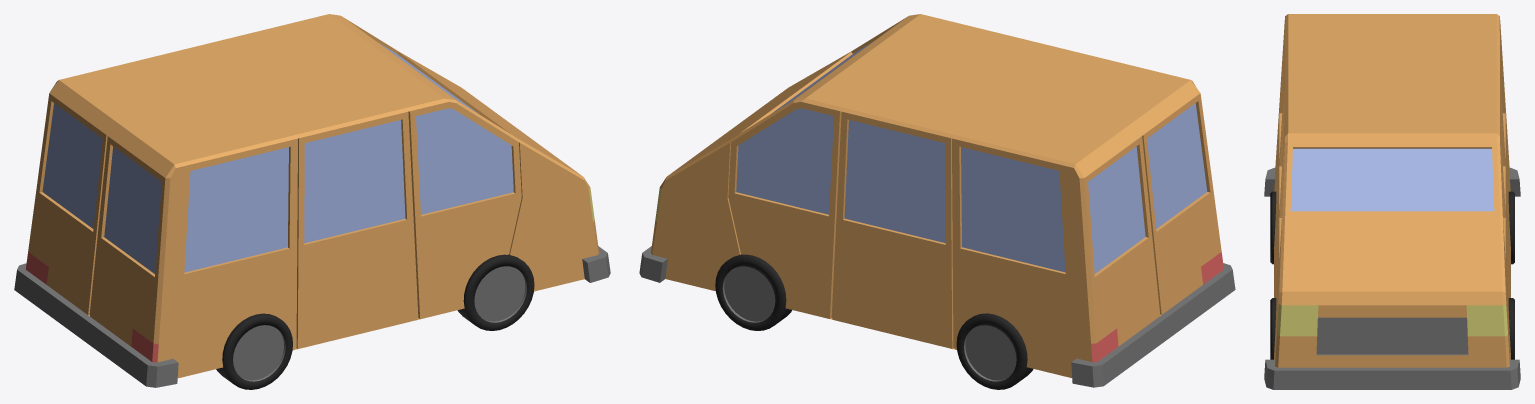
File: mashinka2.fbx
The picture shows the model from 3 angles, left to right: view 1: azimuth 30°, elevation 25°; view 2: azimuth 150°, elevation 25°; view 3: azimuth 270°, elevation 25°; orthographic projection. The views are drawn at different scales.
Visible parts, largest first — view 1: Cube, Cylinder.002, Cylinder.003; view 2: Cube, Cylinder, Cylinder.001; view 3: Cube, Cylinder.003, Cylinder.001, Cylinder, Cylinder.002.
Part boxes in pixels (box(x1,y1,x2,y2)): Cube: box(14, 14, 610, 387); Cylinder.002: box(457, 254, 534, 330); Cylinder.003: box(216, 313, 292, 389); Cube: box(639, 14, 1235, 387); Cylinder: box(715, 254, 792, 330); Cylinder.001: box(956, 313, 1033, 389); Cube: box(1264, 14, 1520, 389); Cylinder.003: box(1270, 191, 1276, 264); Cylinder.001: box(1508, 191, 1514, 264); Cylinder: box(1508, 298, 1514, 359); Cylinder.002: box(1270, 298, 1276, 359).
Bounding box in the file's own units: 427 × 208 × 226.
